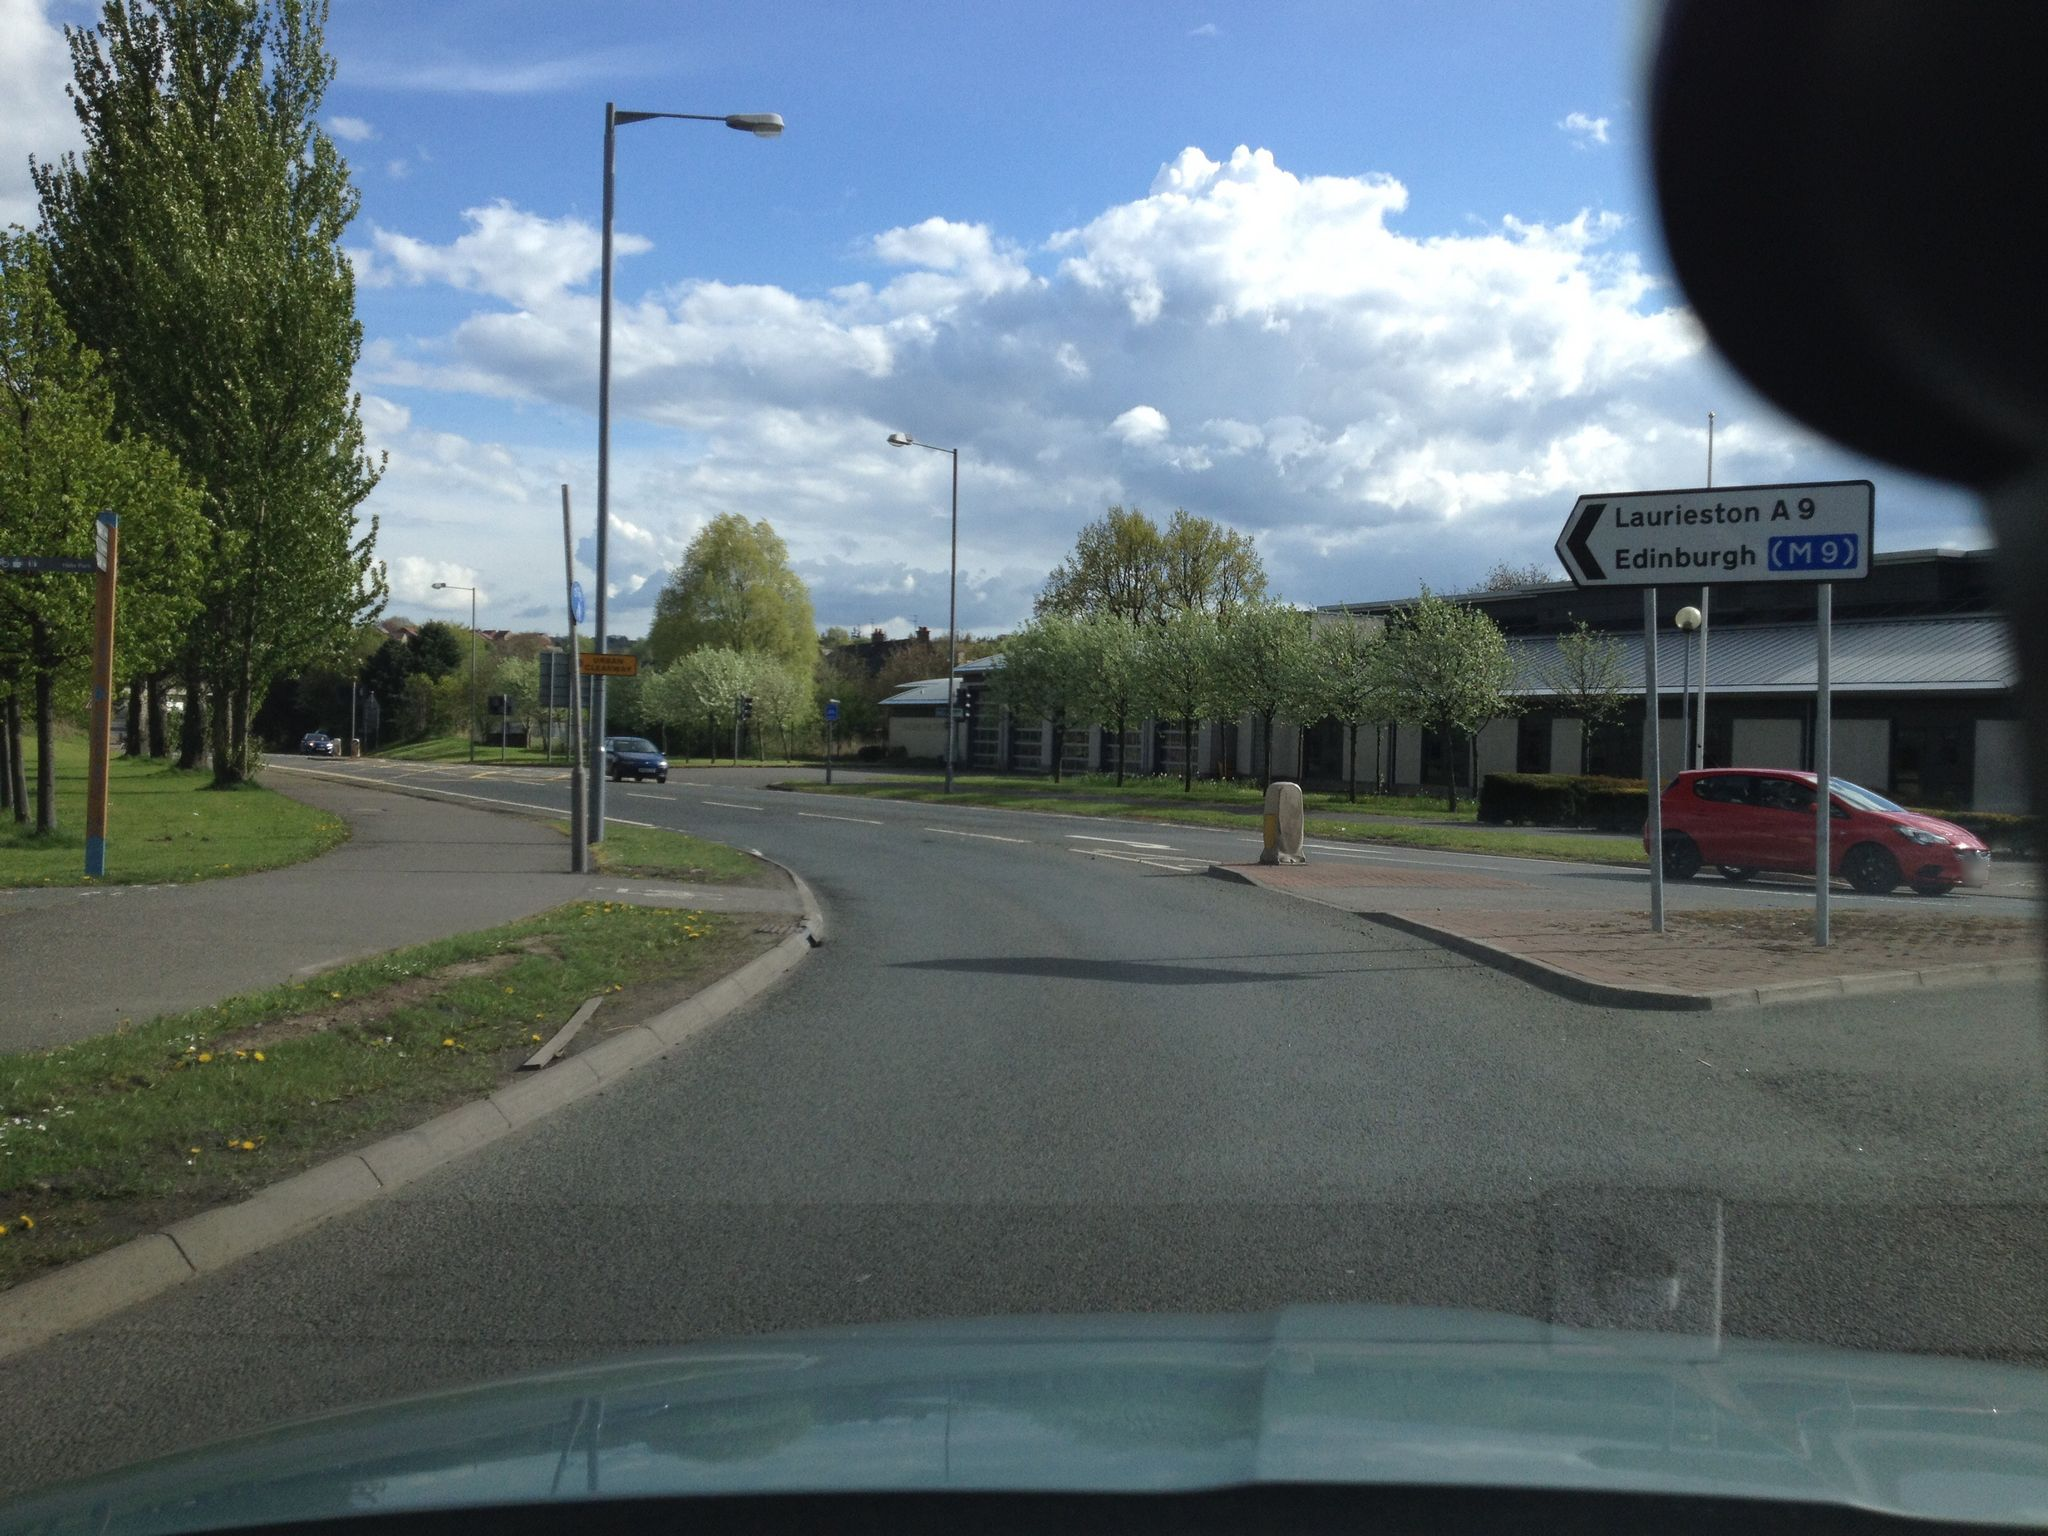car: (1642, 768, 1992, 899), (601, 736, 668, 783), (300, 733, 332, 755)
